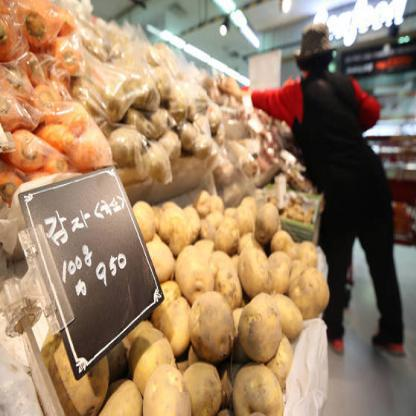potato: (232, 281, 286, 369), (184, 279, 239, 364), (165, 243, 226, 316), (127, 355, 200, 415), (233, 247, 294, 315), (232, 356, 299, 415), (284, 260, 340, 328), (152, 212, 198, 254), (256, 192, 284, 252)
